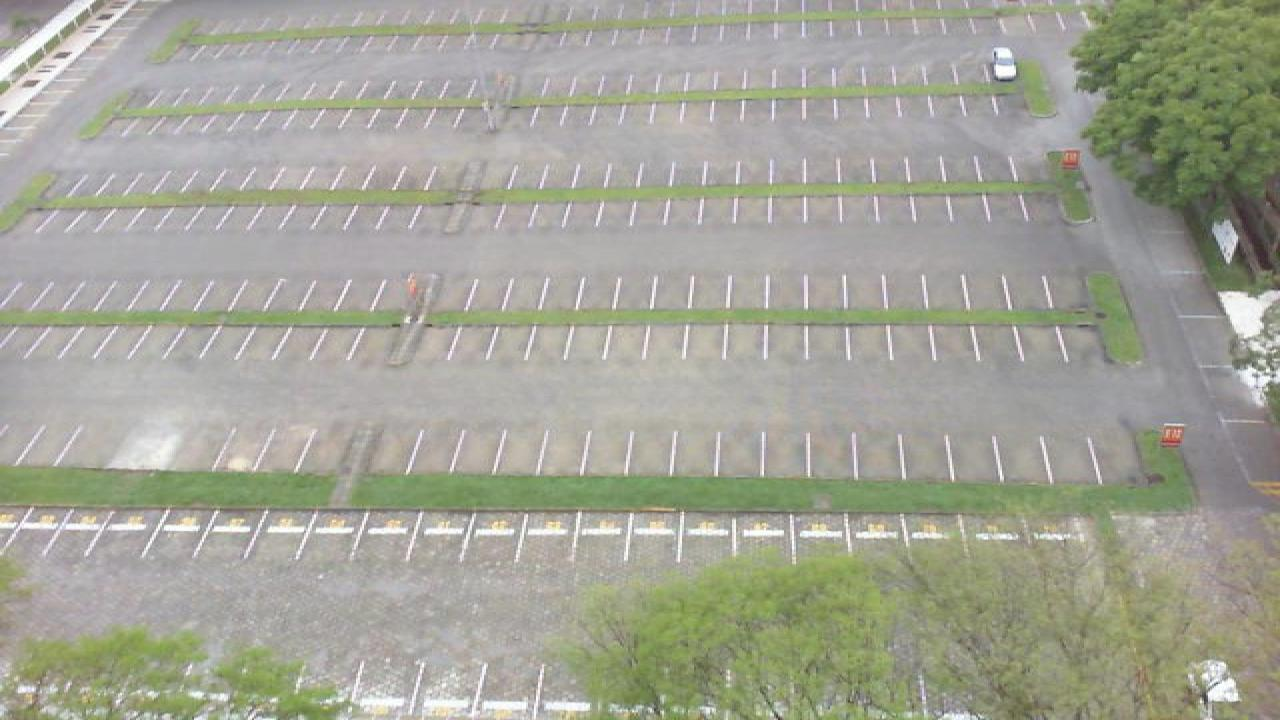Car: (988, 46, 1022, 81)
